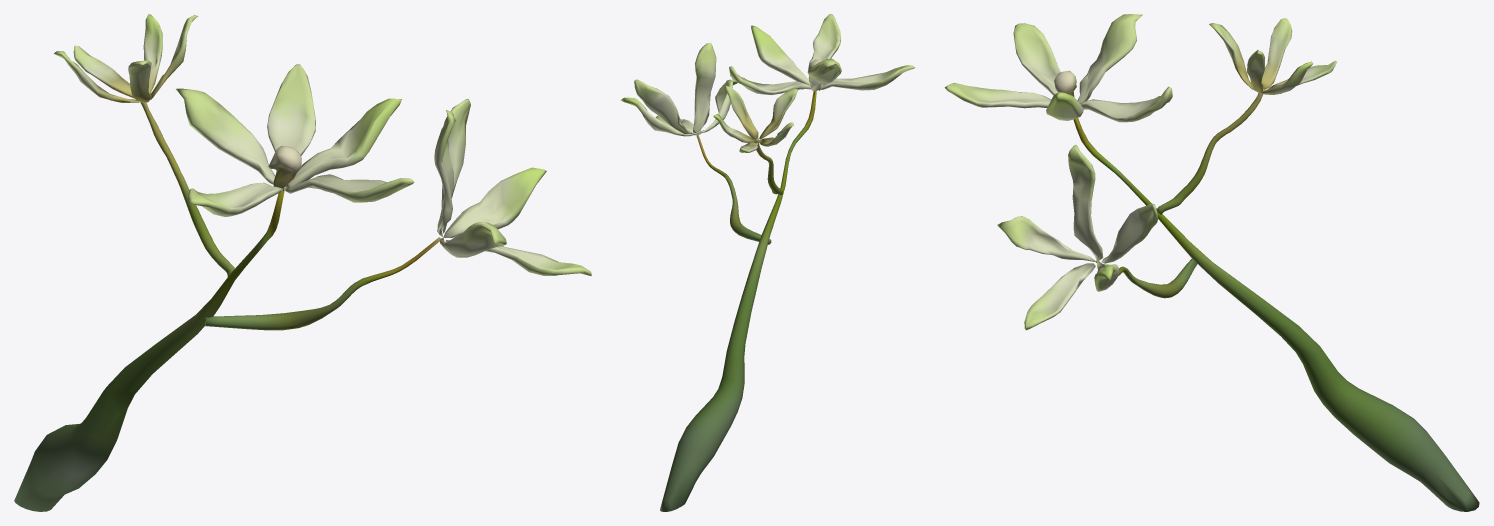
The picture shows the model from 3 angles, left to right: view 1: azimuth 30°, elevation 25°; view 2: azimuth 150°, elevation 25°; view 3: azimuth 270°, elevation 25°; orthographic projection. The views are drawn at different scales.
Parts seen in each view (by area): view 1: LOD 0_66885528158422731_bb9398364d468ec489d5e3c54dd32286; view 2: LOD 0_66885528158422731_bb9398364d468ec489d5e3c54dd32286; view 3: LOD 0_66885528158422731_bb9398364d468ec489d5e3c54dd32286.
Part boxes in pixels (box(x1,y1,x2,y2)): LOD 0_66885528158422731_bb9398364d468ec489d5e3c54dd32286: box(14, 14, 591, 511); LOD 0_66885528158422731_bb9398364d468ec489d5e3c54dd32286: box(620, 14, 915, 511); LOD 0_66885528158422731_bb9398364d468ec489d5e3c54dd32286: box(944, 14, 1479, 511).
Bounding box in the file's own units: 7.97 × 10.64 × 10.92.
